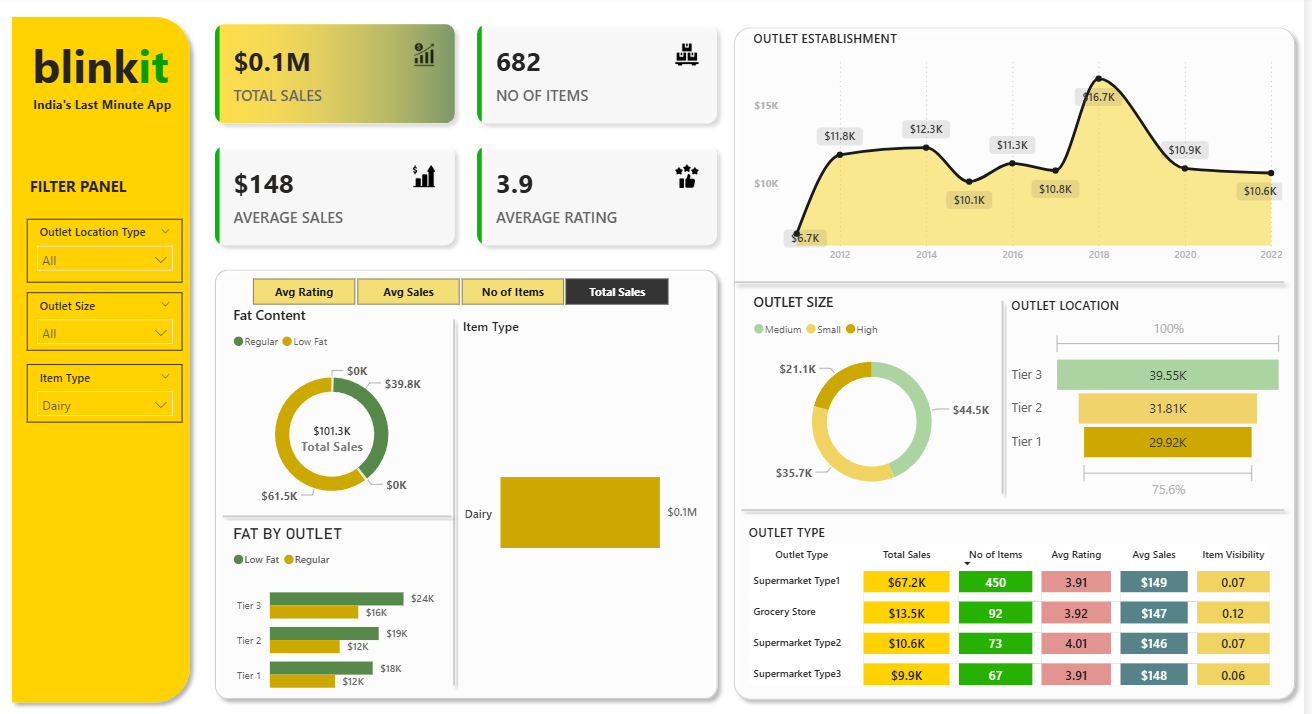

This screenshot's page, from the dashboard's own definition file:
{"tool":"powerbi","page":{"name":"Page 1","canvas":[1400,800],"ordinal":0},"visuals":[{"type":"shape","box":[14,26,208,750],"z":0},{"type":"textbox","box":[30,50,174,76],"z":1000},{"type":"textbox","box":[37.1,114.3,164.3,45.7],"z":2000},{"type":"cardVisual","fields":{"Data":["BlinkIT Grocery Data.Total Sales","BlinkIT Grocery Data.No of Items","BlinkIT Grocery Data.Average Sales","BlinkIT Grocery Data.Average Rating"]},"box":[222,26,570,270],"z":3000},{"type":"shape","box":[230,296,554,476],"z":4000},{"type":"donutChart","title":"Fat Content","fields":{"Y":["BlinkIT Grocery Data.Avg Sales","BlinkIT Grocery Data.Avg Rating","BlinkIT Grocery Data.No of Items","BlinkIT Grocery Data.Total Sales"],"Category":["BlinkIT Grocery Data.Item Fat Content"]},"box":[253.3,343.3,220,230],"z":5000},{"type":"slicer","fields":{"Values":["Metrics2.Metrics2"]},"box":[253.3,308.3,493.3,41.7],"z":6000},{"type":"cardVisual","fields":{"Data":["BlinkIT Grocery Data.Total Sales"]},"box":[312,442,104,88],"z":7000},{"type":"clusteredBarChart","title":"FAT BY OUTLET","fields":{"Y":["BlinkIT Grocery Data.Total Sales"],"Category":["BlinkIT Grocery Data.Outlet Location Type"],"Series":["BlinkIT Grocery Data.Item Fat Content"]},"box":[253.3,576.7,231.7,196.7],"z":8000},{"type":"shape","box":[485,350,13.3,408.3],"z":9000},{"type":"shape","box":[238.3,560,261.7,13.3],"z":10000},{"type":"barChart","title":"Item Type","fields":{"Y":["BlinkIT Grocery Data.Total Sales"],"Category":["BlinkIT Grocery Data.Item Type"]},"box":[498.3,356.7,266.7,395],"z":11000},{"type":"shape","box":[783.3,38.3,616.7,735],"z":12000},{"type":"lineChart","title":"OUTLET ESTABLISHMENT","fields":{"Category":["BlinkIT Grocery Data.Outlet Establishment Year"],"Y":["BlinkIT Grocery Data.Total Sales"]},"box":[808,50,574,258],"z":13000},{"type":"shape","box":[783.3,308.3,605,21.7],"z":14000},{"type":"slicer","title":"OUTLET SIZE","fields":{"Values":["BlinkIT Grocery Data.Outlet Location Type"]},"box":[38,252,166,68],"z":15000},{"type":"shape","box":[1070,330,13.3,223.3],"z":16000},{"type":"funnel","title":"OUTLET LOCATION","fields":{"Y":["Sum(BlinkIT Grocery Data.Sales)"],"Category":["BlinkIT Grocery Data.Outlet Location Type"]},"box":[1083.3,335,300,220],"z":17000},{"type":"shape","box":[791.7,553.3,596.7,13.3],"z":18000},{"type":"pivotTable","title":"OUTLET TYPE","fields":{"Values":["BlinkIT Grocery Data.Total Sales","BlinkIT Grocery Data.No of Items","BlinkIT Grocery Data.Avg Rating","BlinkIT Grocery Data.Avg Sales","Avg(BlinkIT Grocery Data.Item Visibility)"],"Rows":["BlinkIT Grocery Data.Outlet Type"]},"box":[802.9,577.1,580,181.4],"z":19000},{"type":"donutChart","title":"OUTLET SIZE","fields":{"Y":["BlinkIT Grocery Data.Total Sales"],"Category":["BlinkIT Grocery Data.Outlet Size"]},"box":[808,330,262,230],"z":19001},{"type":"slicer","title":"OUTLET SIZE","fields":{"Values":["BlinkIT Grocery Data.Outlet Size"]},"box":[38,330,166,62],"z":19002},{"type":"slicer","title":"OUTLET SIZE","fields":{"Values":["BlinkIT Grocery Data.Item Type"]},"box":[38,406,166,62],"z":19003},{"type":"textbox","box":[37.1,200,134.3,41.4],"z":19004}]}

Visuals, with their boxes on the page's 1400x800 design canvas (x1, y1, x2, y2). These are canvas units, not pixel positions in the 1312x714 screenshot, which may show the page scaled, cropped or inside an application window:
shape: 14,26,222,776
textbox: 30,50,204,126
textbox: 37,114,201,160
cardVisual - BlinkIT Grocery Data.Total Sales x BlinkIT Grocery Data.No of Items: 222,26,792,296
shape: 230,296,784,772
"Fat Content" donutChart: 253,343,473,573
slicer - Metrics2.Metrics2: 253,308,747,350
cardVisual - BlinkIT Grocery Data.Total Sales: 312,442,416,530
"FAT BY OUTLET" clusteredBarChart: 253,577,485,773
shape: 485,350,498,758
shape: 238,560,500,573
"Item Type" barChart: 498,357,765,752
shape: 783,38,1400,773
"OUTLET ESTABLISHMENT" lineChart: 808,50,1382,308
shape: 783,308,1388,330
"OUTLET SIZE" slicer: 38,252,204,320
shape: 1070,330,1083,553
"OUTLET LOCATION" funnel: 1083,335,1383,555
shape: 792,553,1388,567
"OUTLET TYPE" pivotTable: 803,577,1383,758
"OUTLET SIZE" donutChart: 808,330,1070,560
"OUTLET SIZE" slicer: 38,330,204,392
"OUTLET SIZE" slicer: 38,406,204,468
textbox: 37,200,171,241
